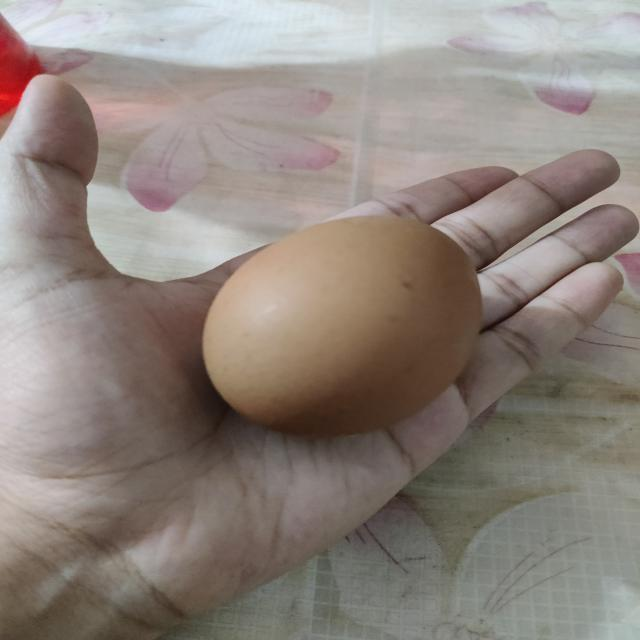egg: (200, 213, 488, 440)
